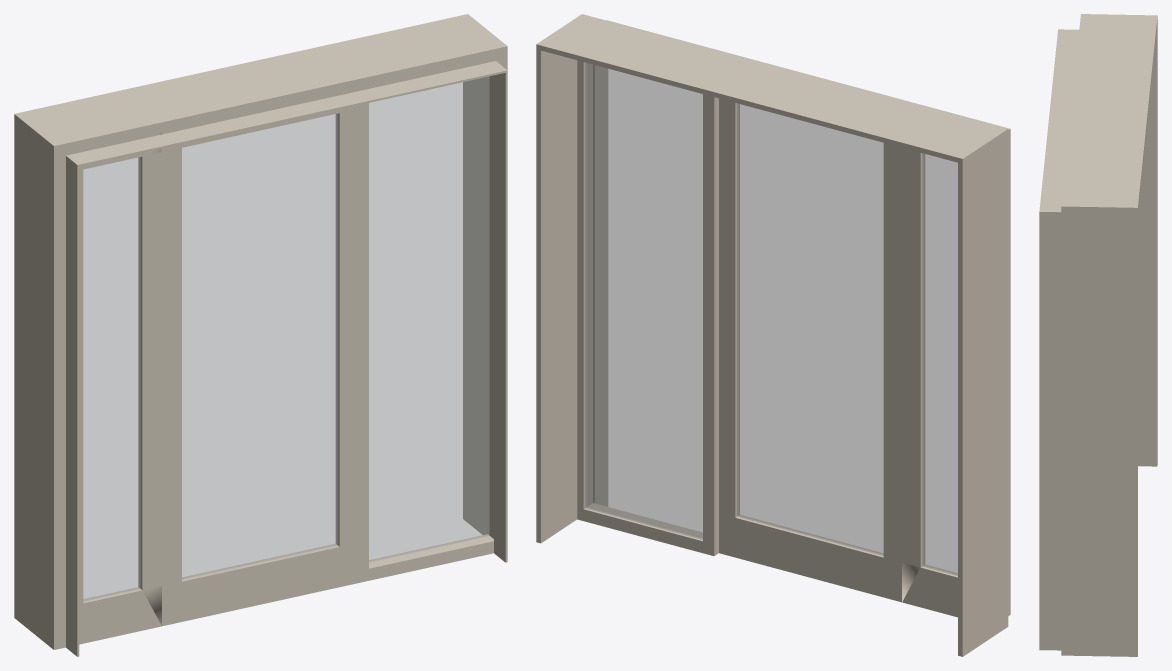
The model's file is Porte.fbx.
3 views of the same model, side by side, from view 1: azimuth 30°, elevation 25°; view 2: azimuth 150°, elevation 25°; view 3: azimuth 270°, elevation 25° (orthographic). The views are drawn at different scales.
Visible parts, largest first — view 1: IfcWindow/ME - 11, IfcWindow/ME - 11.001; view 2: IfcWindow/ME - 11, IfcWindow/ME - 11.001; view 3: IfcWindow/ME - 11.
Part boxes in pixels (x1,y1,x2,y2): IfcWindow/ME - 11: (14,14,507,656); IfcWindow/ME - 11.001: (162,88,359,626); IfcWindow/ME - 11: (536,14,1010,656); IfcWindow/ME - 11.001: (719,98,901,602); IfcWindow/ME - 11: (1039,14,1157,656).
Bounding box in the file's own units: 2.31 × 0.5964 × 2.5.
